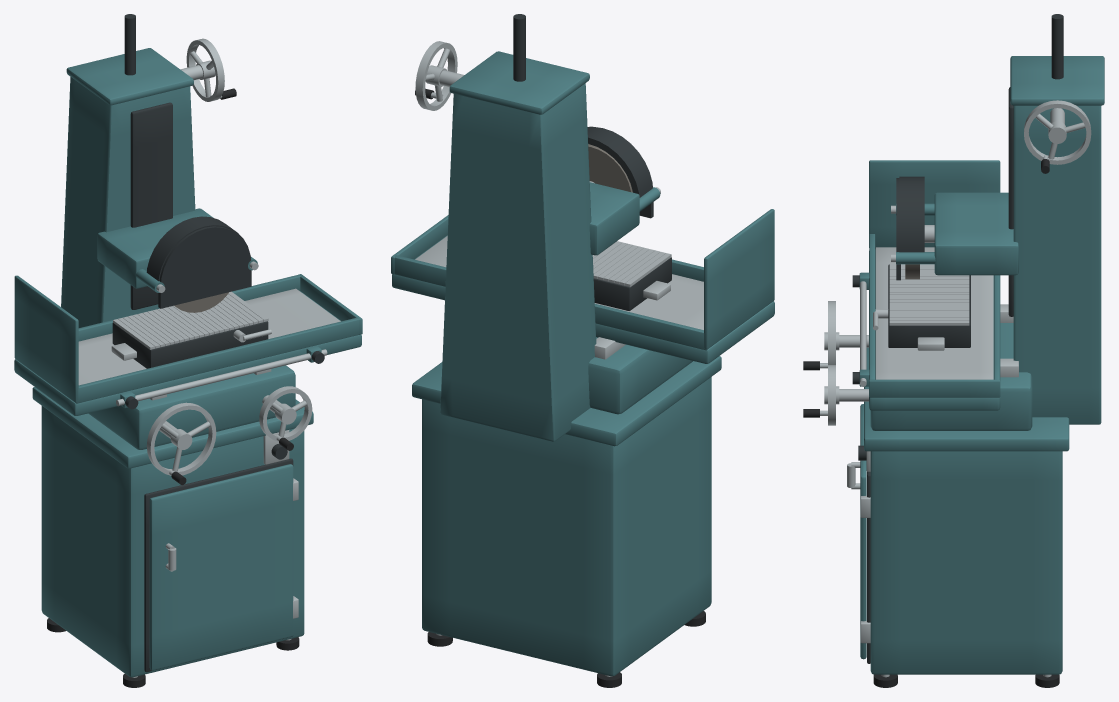
File: A-NEW-20261026-SURFACE-GRINDER-001_LOD1_R4.fbx
3 views of the same model, side by side, from view 1: azimuth 30°, elevation 25°; view 2: azimuth 150°, elevation 25°; view 3: azimuth 270°, elevation 25° (orthographic). The views are drawn at different scales.
Parts seen in each view (by area): view 1: cabinet body, cabinet door, tapered vertical column, upper saddle base, column dark slide cover, left splash plate, round wheel guard face, table raised rim, long table flat bed, cabinet top cap, column top cap, long table casting (+12 smaller); view 2: cabinet body, tapered vertical column, left splash plate, column top cap, cabinet top cap, upper saddle base, long table casting, table raised rim.001, long table flat bed, grinding head mount, upper wheel guard curved rim, magnetic chuck casing (+4 smaller); view 3: cabinet body, tapered vertical column, long table flat bed, grinding head mount, left splash plate, cabinet top cap, upper saddle base, column top cap, right table end lip, long table casting, upper wheel guard curved rim, magnetic chuck casing (+12 smaller).
Part boxes in pixels (x1=…): cabinet body: x1=41, y1=406, x2=304, y2=677; cabinet door: x1=149, y1=464, x2=293, y2=670; tapered vertical column: x1=61, y1=77, x2=195, y2=327; upper saddle base: x1=88, y1=365, x2=295, y2=449; column dark slide cover: x1=130, y1=102, x2=172, y2=309; left splash plate: x1=14, y1=275, x2=78, y2=402; round wheel guard face: x1=158, y1=226, x2=251, y2=308; table raised rim: x1=75, y1=317, x2=359, y2=403; long table flat bed: x1=78, y1=288, x2=340, y2=385; cabinet top cap: x1=32, y1=387, x2=313, y2=468; column top cap: x1=66, y1=48, x2=193, y2=105; long table casting: x1=14, y1=291, x2=361, y2=415; cabinet body: x1=422, y1=377, x2=711, y2=676; tapered vertical column: x1=440, y1=83, x2=596, y2=441; left splash plate: x1=704, y1=209, x2=774, y2=349; column top cap: x1=449, y1=51, x2=589, y2=114; cabinet top cap: x1=412, y1=356, x2=721, y2=446; upper saddle base: x1=588, y1=337, x2=692, y2=414; long table casting: x1=392, y1=235, x2=774, y2=363; table raised rim.001: x1=394, y1=255, x2=707, y2=350; long table flat bed: x1=415, y1=236, x2=703, y2=329; grinding head mount: x1=589, y1=182, x2=639, y2=255; upper wheel guard curved rim: x1=587, y1=126, x2=652, y2=197; magnetic chuck casing: x1=593, y1=257, x2=671, y2=310; cabinet body: x1=870, y1=451, x2=1062, y2=674; tapered vertical column: x1=1013, y1=105, x2=1101, y2=424; long table flat bed: x1=875, y1=247, x2=993, y2=379; grinding head mount: x1=934, y1=192, x2=1018, y2=275; left splash plate: x1=869, y1=160, x2=1000, y2=248; cabinet top cap: x1=864, y1=347, x2=1069, y2=451; upper saddle base: x1=870, y1=323, x2=1032, y2=430; column top cap: x1=1010, y1=56, x2=1104, y2=105; right table end lip: x1=869, y1=379, x2=1000, y2=397; long table casting: x1=869, y1=249, x2=1000, y2=410; upper wheel guard curved rim: x1=899, y1=176, x2=924, y2=252; magnetic chuck casing: x1=888, y1=264, x2=970, y2=347.
Bounding box in the file's own units: 105 × 205 × 89.5.
